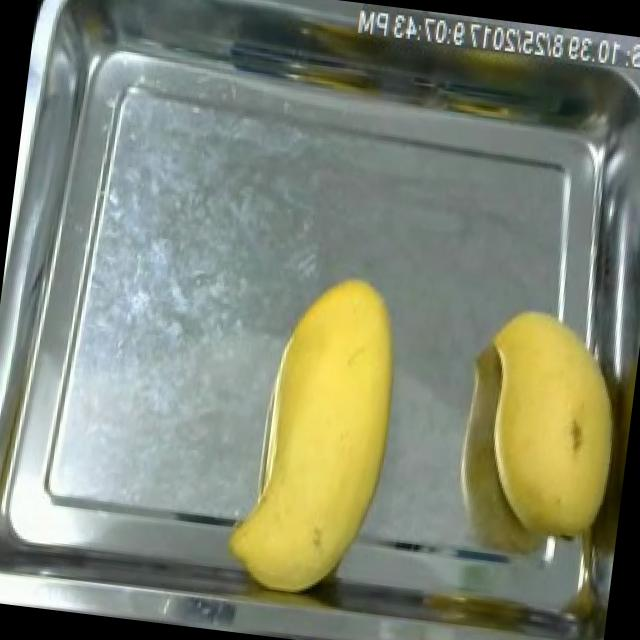fruit: (224, 258, 418, 610), (463, 298, 640, 553)
